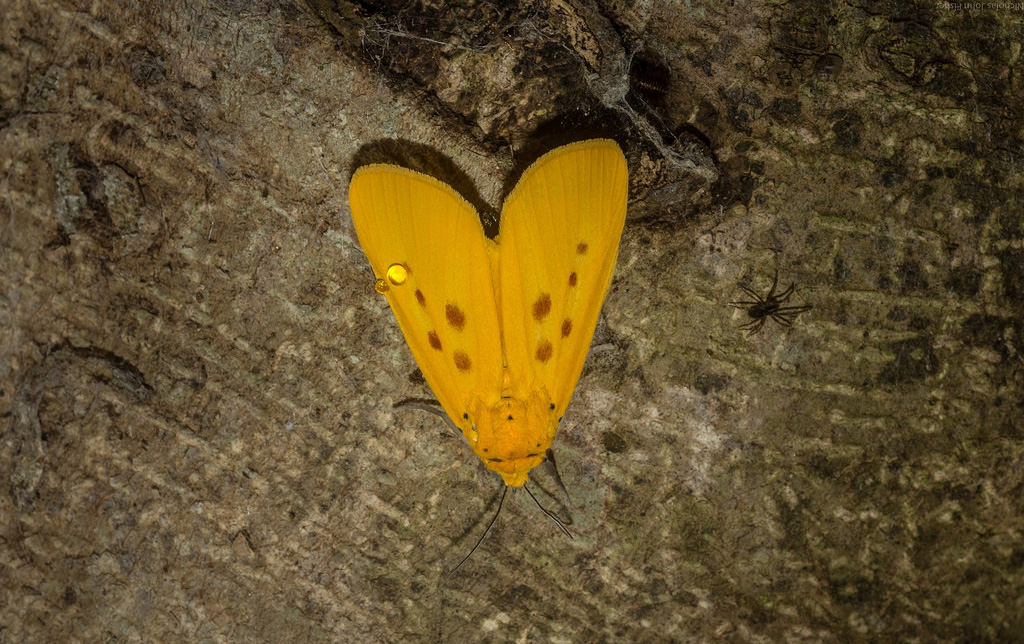Agape chloropyga: (342, 136, 629, 573)
moth: (344, 138, 631, 575)
